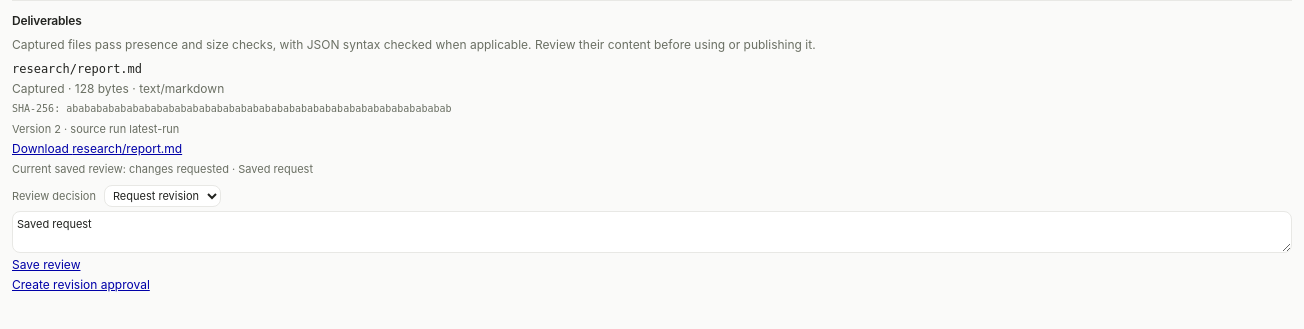
Test case: run deliverables › retains the same revision command for a retry after an uncertain network failure
Click the button "Create revision approval": point(81, 285) [12,277,150,293]
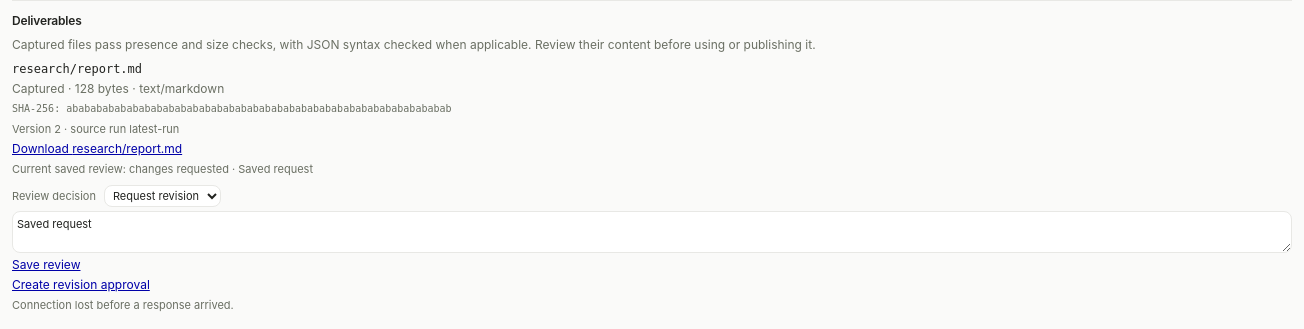
Now the message shows "Connection lost", box [12,298,234,312]
Click the button "Create revision approval": point(81, 285) [12,277,150,293]
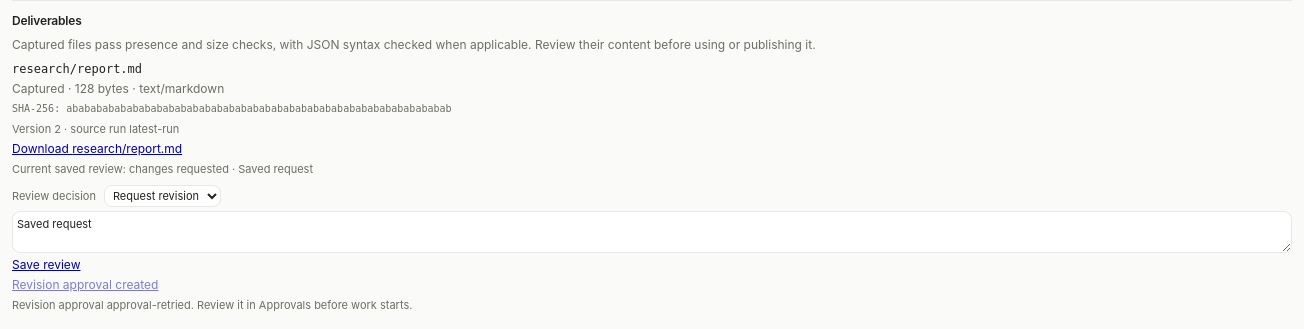
Now the button "Revision approval created" is shown, box [12,277,158,293]
